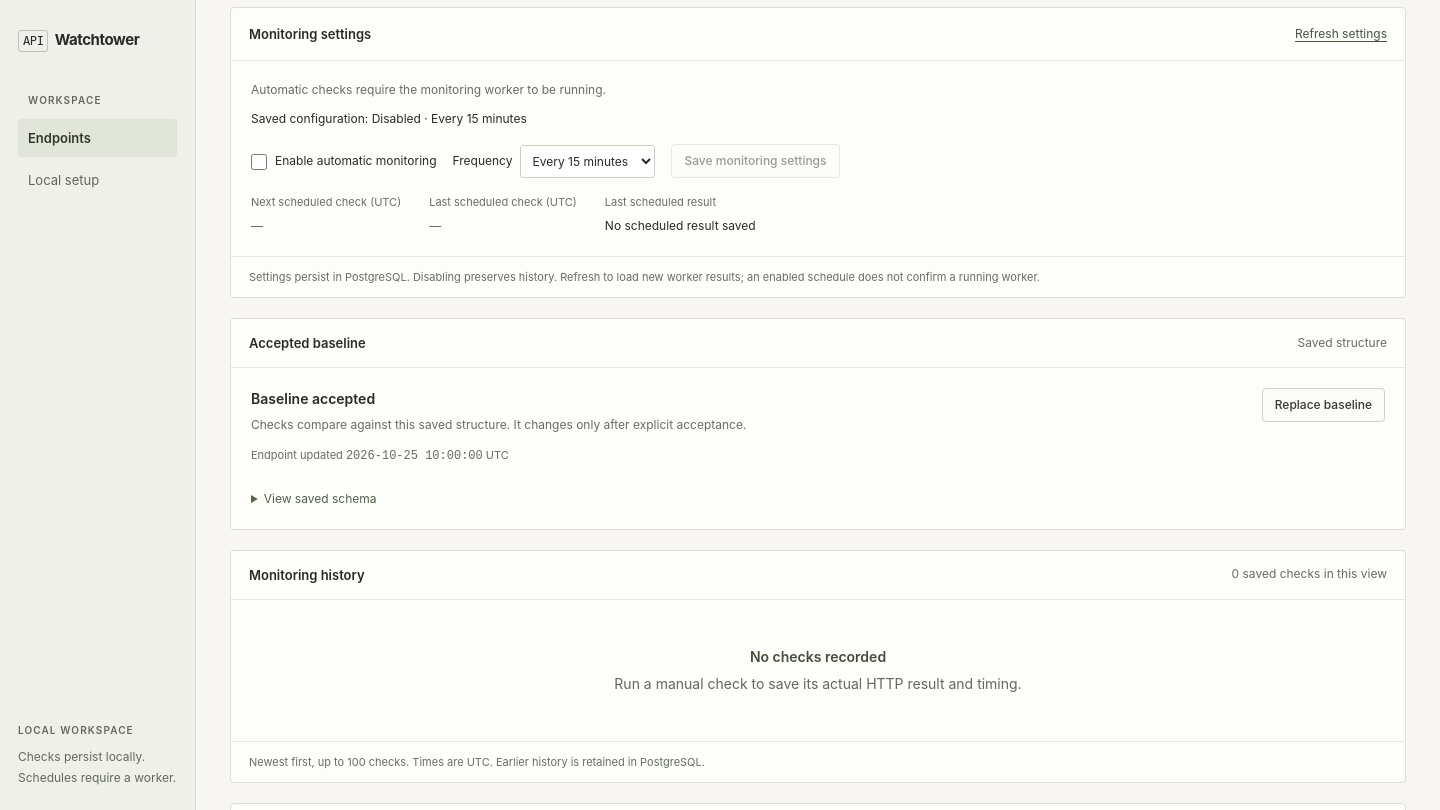
Test: explicit baseline acceptance › does not replace a saved baseline when confirmation is cancelled
(page scrolled)
Expected: the heading "View saved schema" is shown, [264, 491, 376, 506]
Click the button "Replace baseline" at (1323, 405), box [1262, 388, 1385, 422]
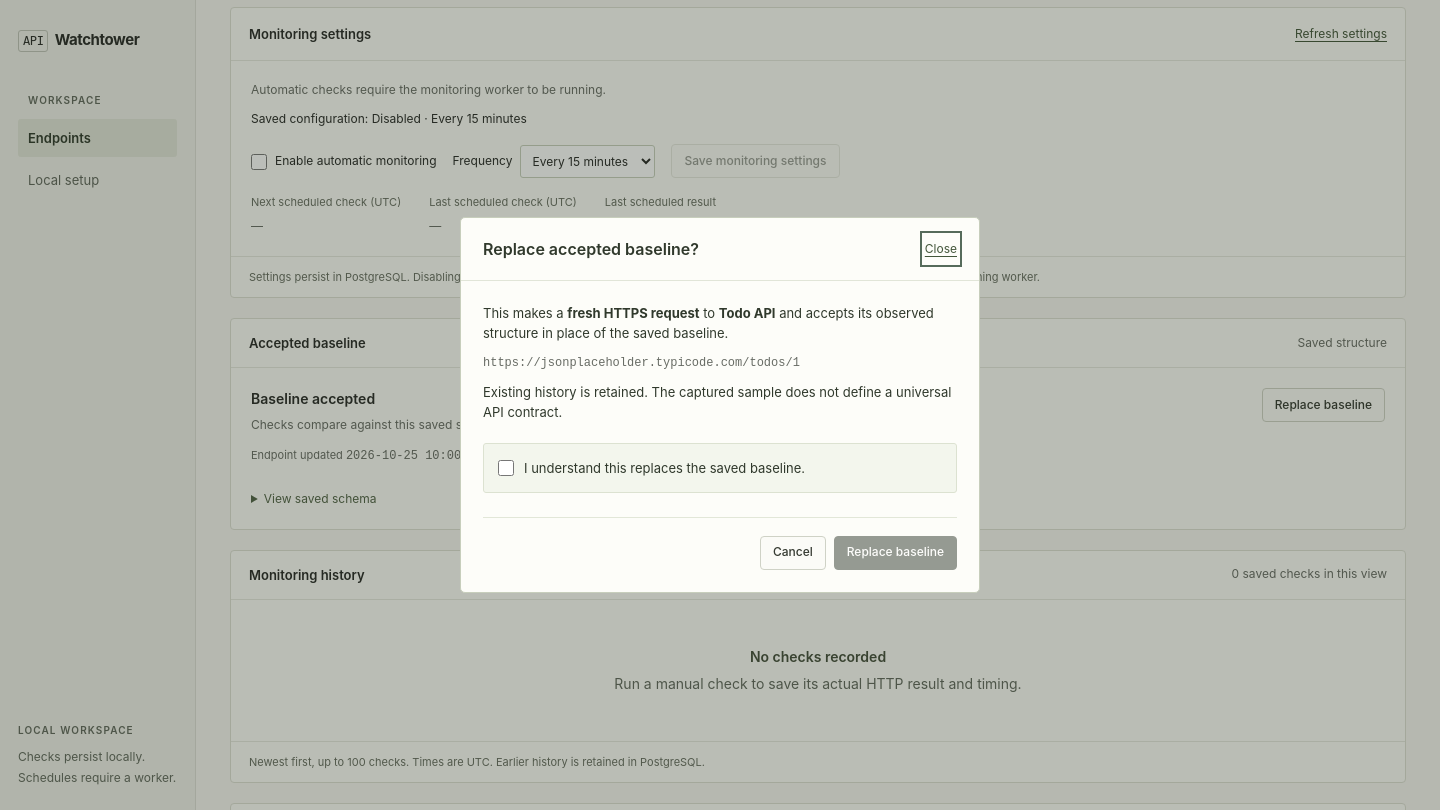
Click the checkbox labelled "I understand this replaces the saved baseline." at (506, 468), box [498, 460, 514, 476]
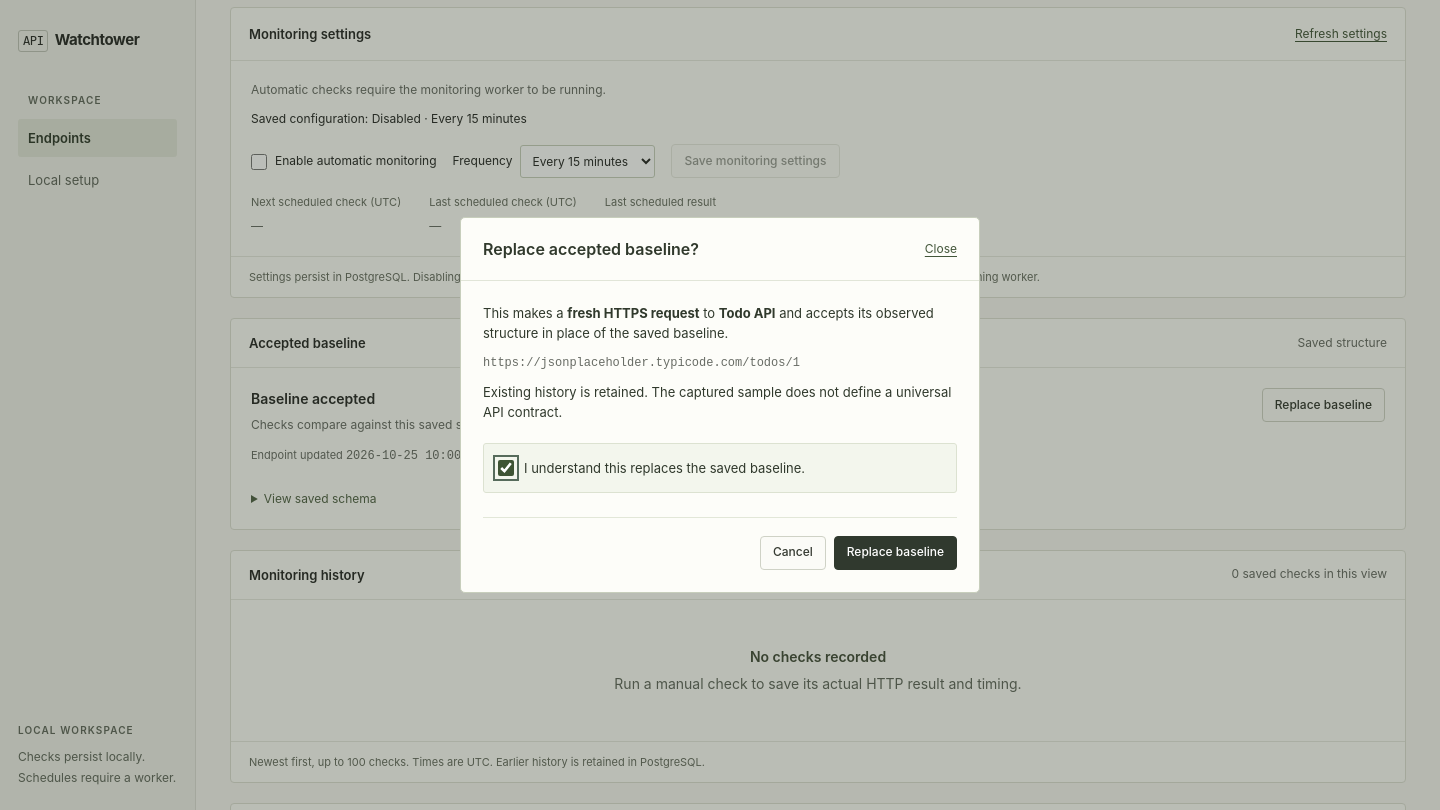
Click the button "Cancel" at (793, 553), box [760, 536, 826, 570]
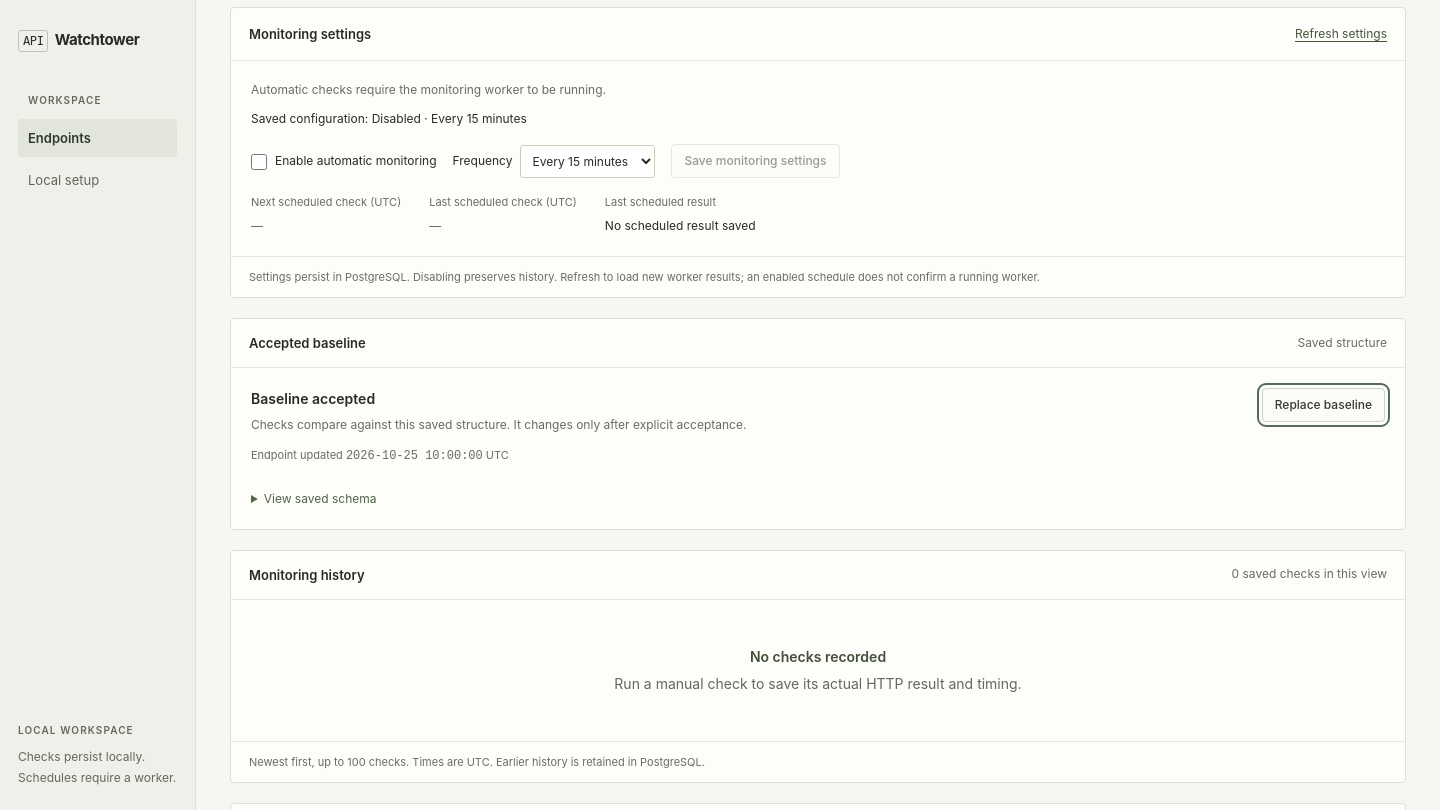
Click the button "Replace baseline" at (1323, 405), box [1262, 388, 1385, 422]
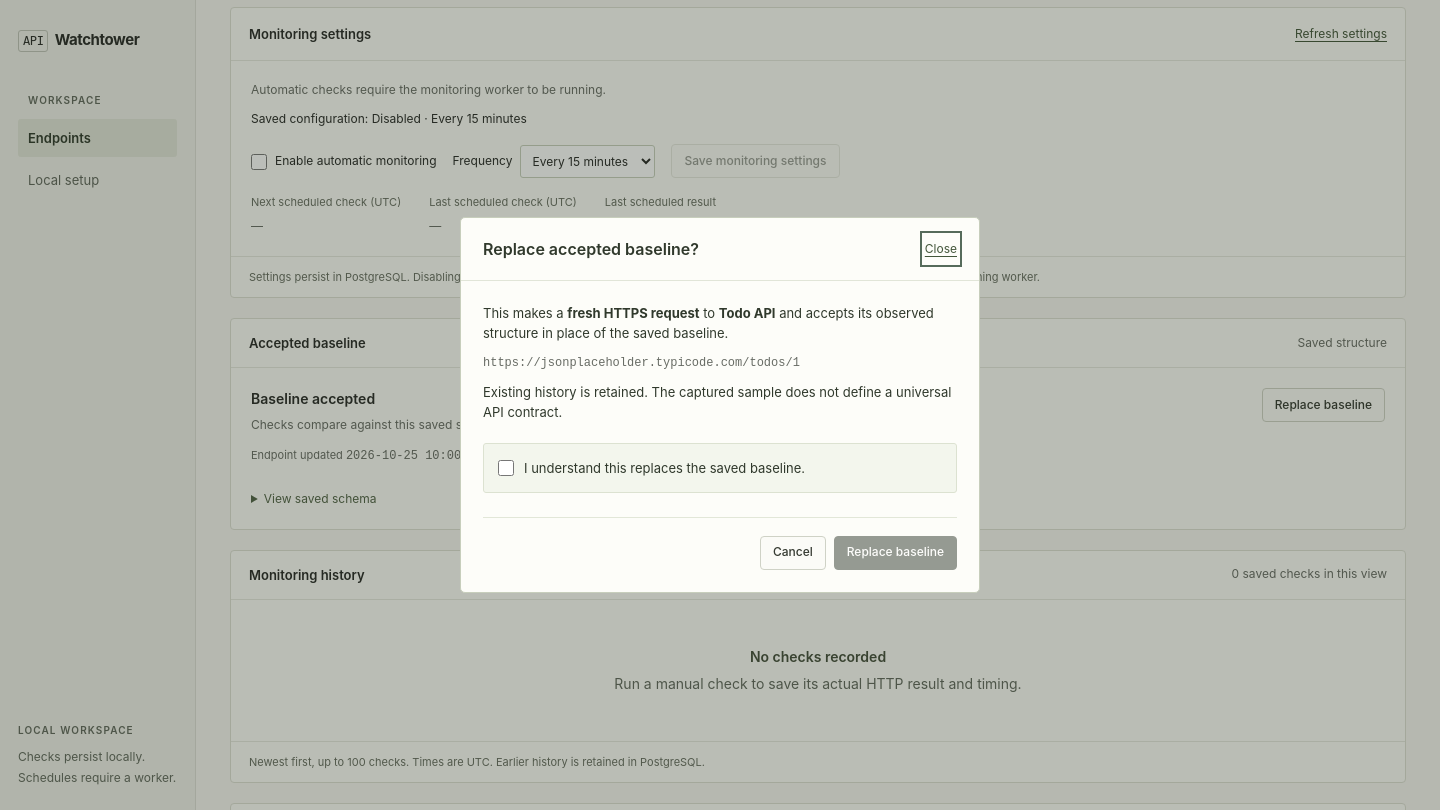
Now the checkbox labelled "I understand this replaces the saved baseline." is not checked, box [498, 460, 514, 476]
